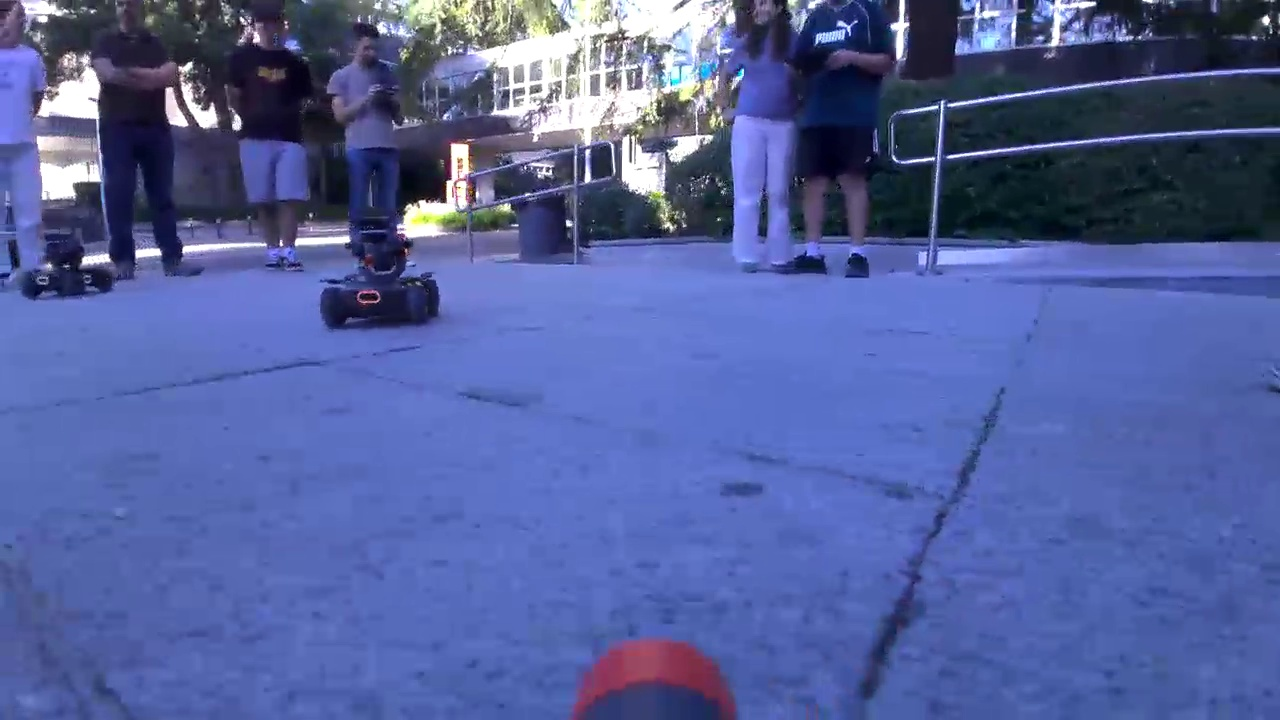robot: (321, 217, 442, 330), (20, 233, 115, 299)
